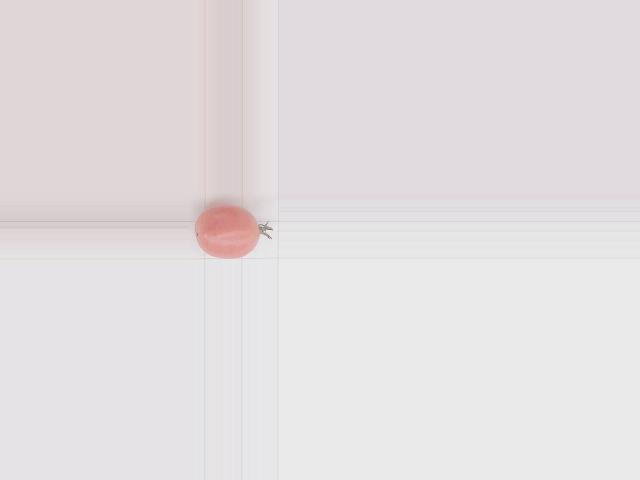tomato: (194, 205, 259, 259)
